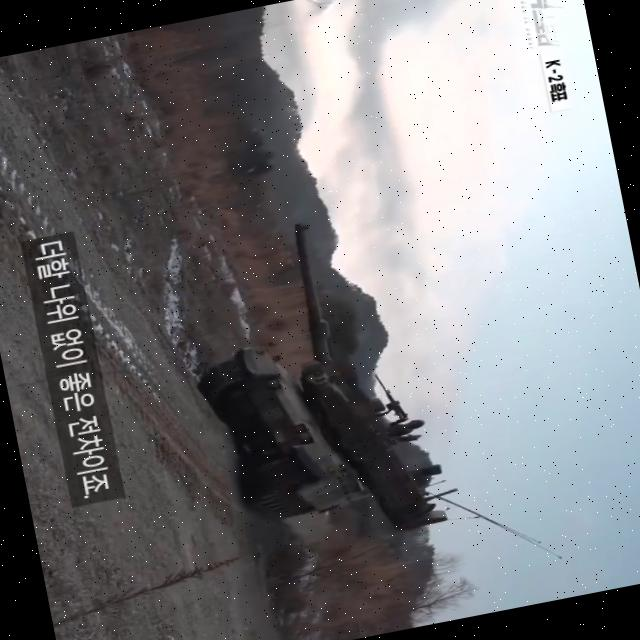korea tank: (170, 201, 466, 564)
